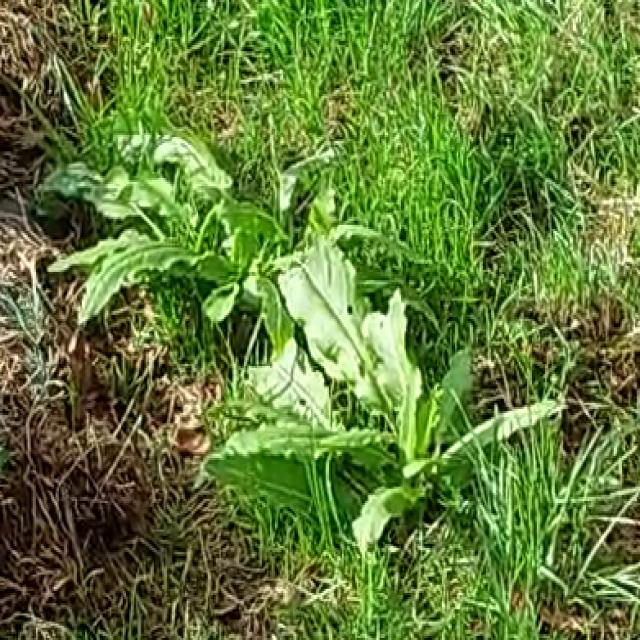organic waste: (64, 106, 319, 378), (259, 309, 496, 540)
